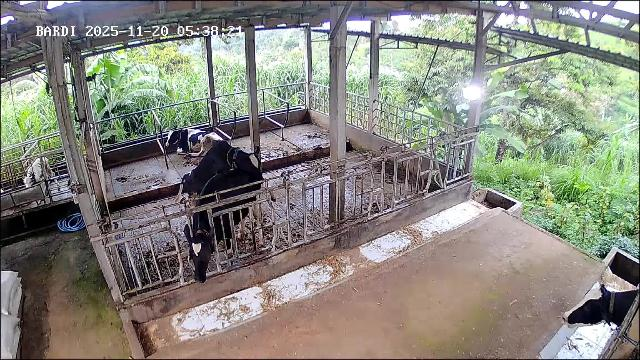mounting: (180, 140, 277, 203)
